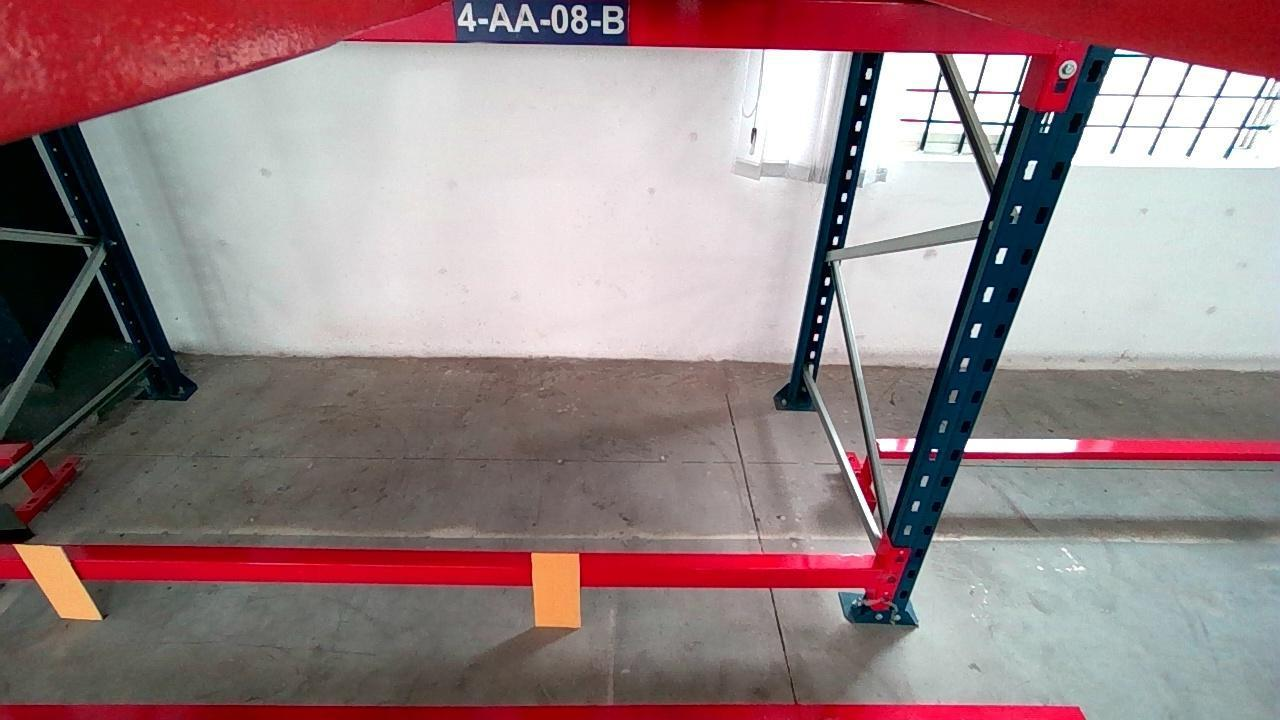h_rack: (0, 559, 879, 586)
orange_strip: (12, 544, 102, 618), (530, 553, 579, 626)
red_line: (0, 703, 1086, 720)
